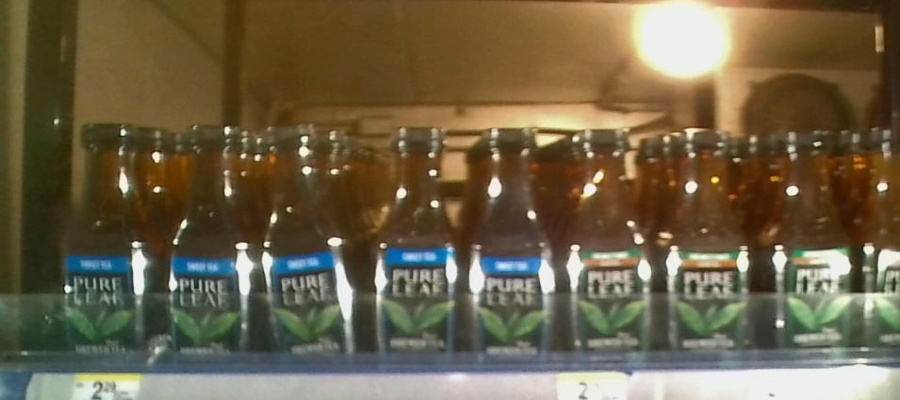bottle: (262, 123, 361, 366), (161, 120, 258, 368), (663, 126, 760, 371), (368, 126, 464, 368), (565, 124, 660, 368), (764, 126, 859, 369), (62, 116, 155, 363), (470, 126, 559, 364), (863, 125, 900, 366)
